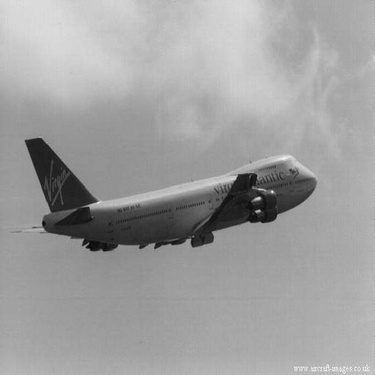airplane: (6, 129, 323, 257)
